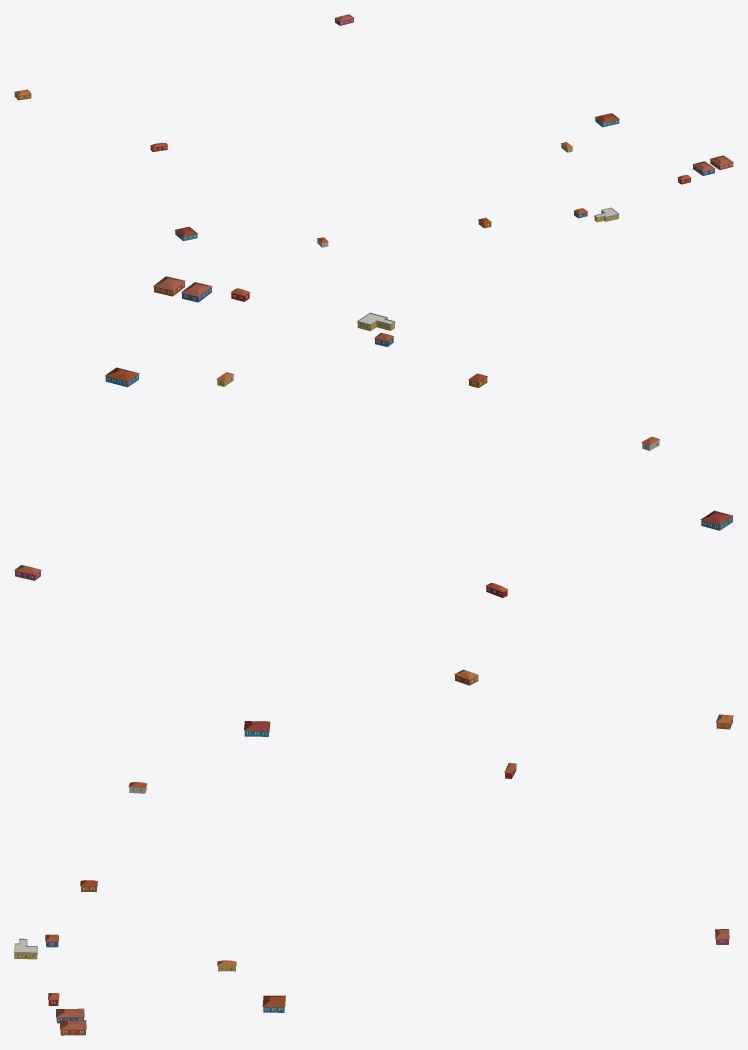
Rendered from msb_sannicolas_14_20.glb.
3 views of the same model, one above another, from view 1: azimuth 30°, elevation 25°; view 2: azimuth 150°, elevation 25°; view 3: azimuth 270°, elevation 25° (orthographic). The views are drawn at different scales.
Parts seen in each view (by area): view 1: msb_sannicolas_14_20_lod0; view 2: msb_sannicolas_14_20_lod0; view 3: msb_sannicolas_14_20_lod0.
Boxes of the visible parts, box(x1,y1,x2,y2) form: msb_sannicolas_14_20_lod0: box(14, 14, 733, 247); msb_sannicolas_14_20_lod0: box(14, 276, 733, 685); msb_sannicolas_14_20_lod0: box(14, 714, 733, 1035).
Size of what is drawn, in the model's own units: 396 by 13.88 by 379.
Materials: 3 (1 with a texture image).
